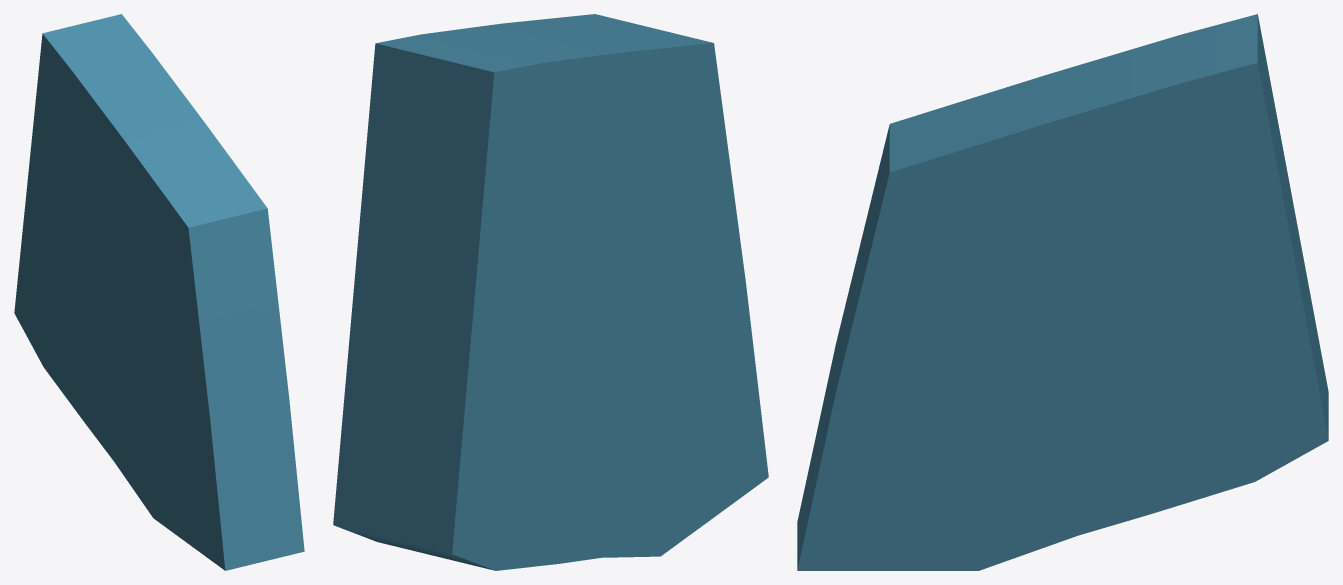
The model's file is NexusC_Trigger_25.fbx.
The picture shows the model from 3 angles, left to right: view 1: azimuth 30°, elevation 25°; view 2: azimuth 150°, elevation 25°; view 3: azimuth 270°, elevation 25°; orthographic projection. The views are drawn at different scales.
Visible parts, largest first — view 1: polySurface18; view 2: polySurface18; view 3: polySurface18.
Part boxes in pixels (x1,y1,x2,y2): polySurface18: (14, 14, 304, 570); polySurface18: (333, 14, 768, 570); polySurface18: (797, 14, 1328, 570).
Bounding box in the file's own units: 12.97 × 62.97 × 59.66.
